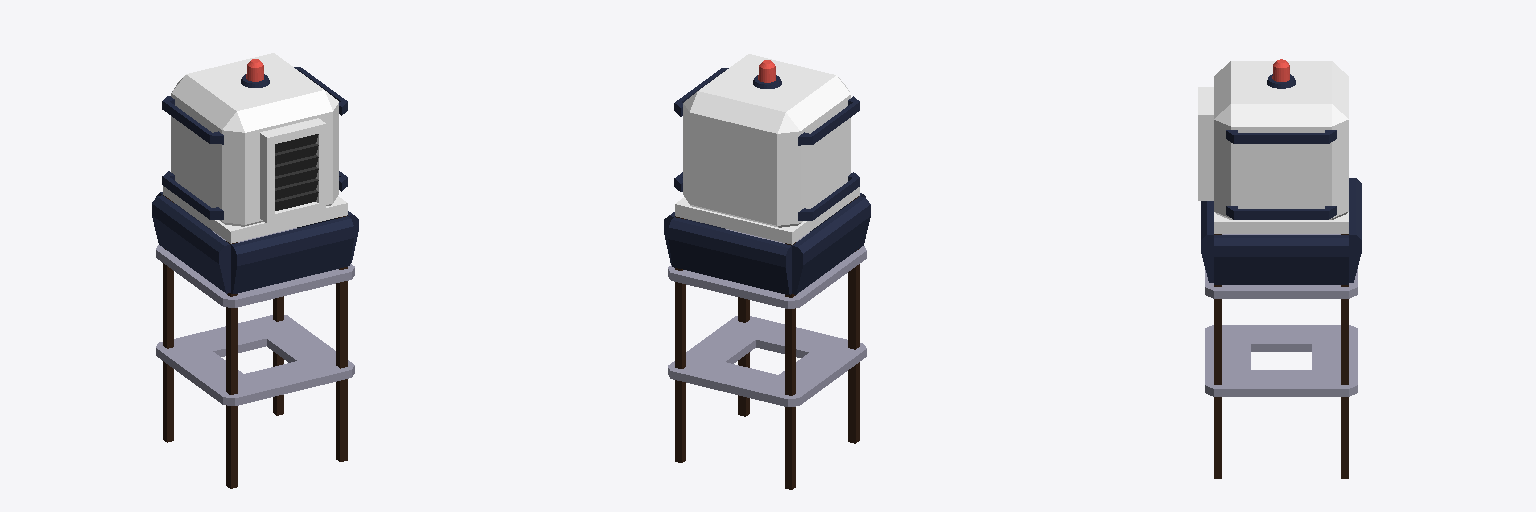
Rendered from miningTower.obj.
3 views of the same model, side by side, from view 1: azimuth 30°, elevation 25°; view 2: azimuth 150°, elevation 25°; view 3: azimuth 270°, elevation 25° (orthographic).
Size of the model in its own units: 1.19 by 3.17 by 1.21.